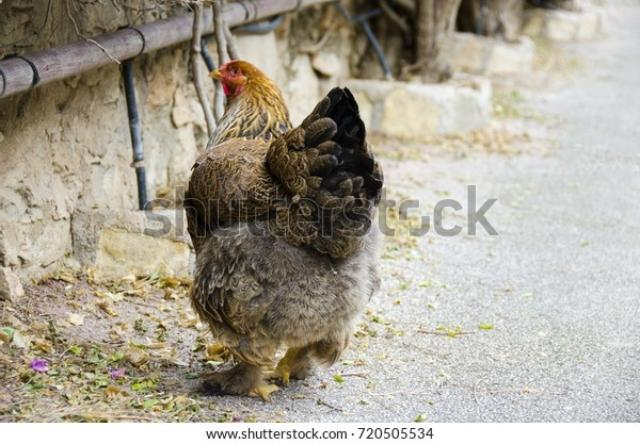Chicken: (183, 57, 384, 403)
